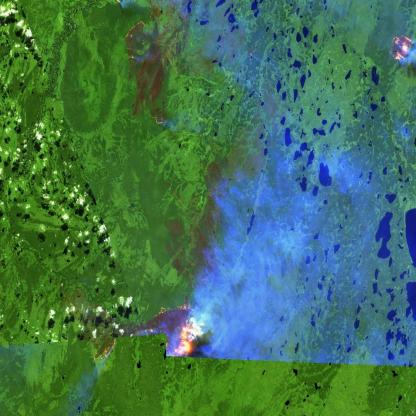fire: (134, 297, 205, 366), (84, 320, 125, 368), (122, 10, 157, 66), (384, 21, 416, 65), (146, 100, 169, 134)
